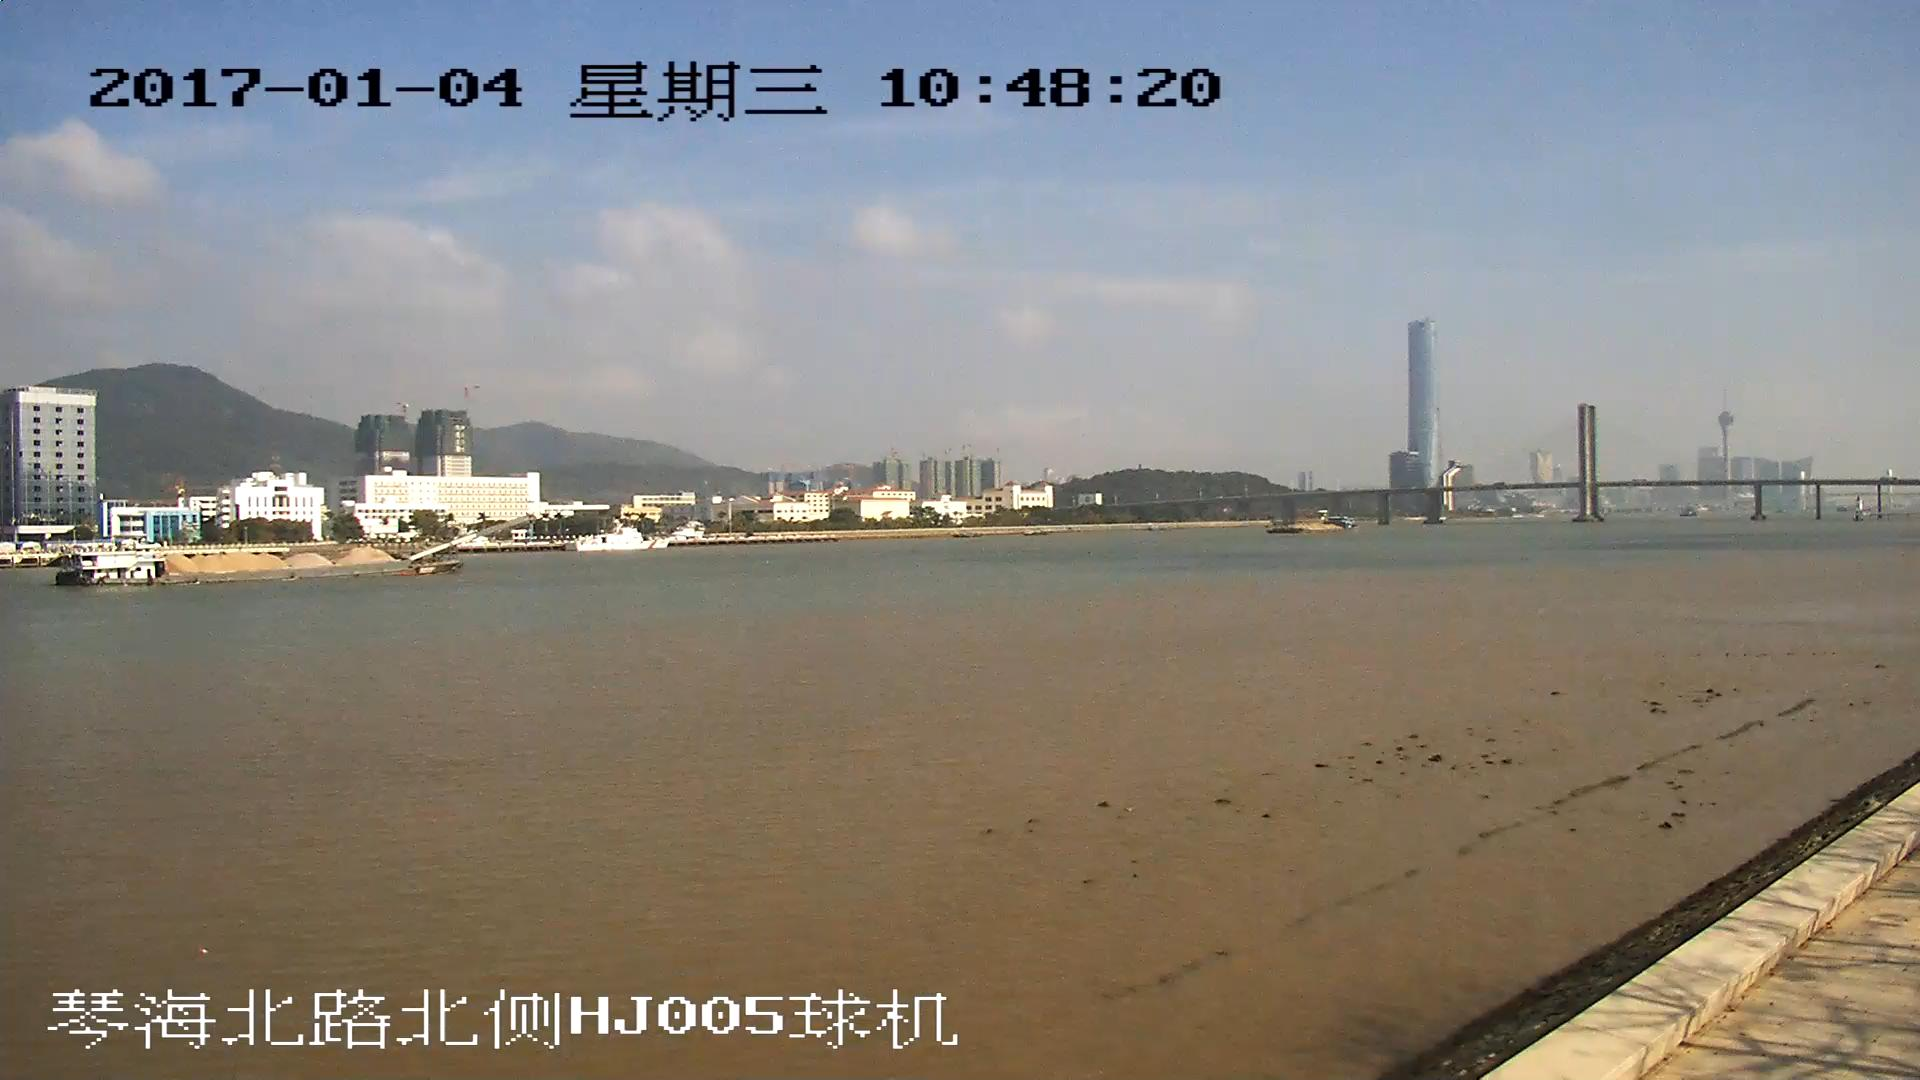ore carrier: (62, 514, 532, 588)
